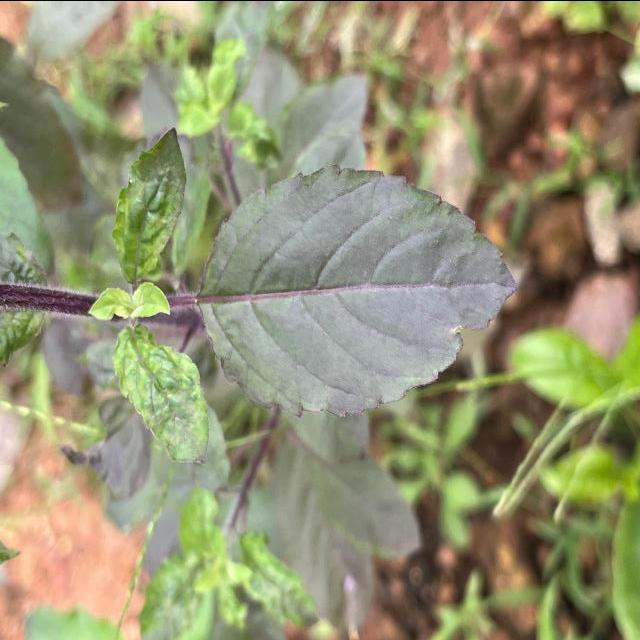Ocimum tenuiflorum: (193, 154, 524, 423)
